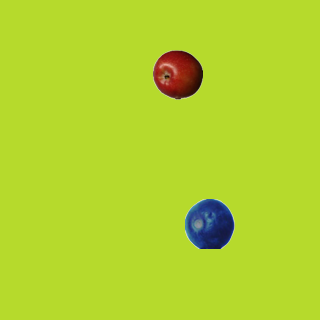Apple Braeburn: (152, 49, 202, 99)
Huckleberry: (184, 198, 234, 248)
